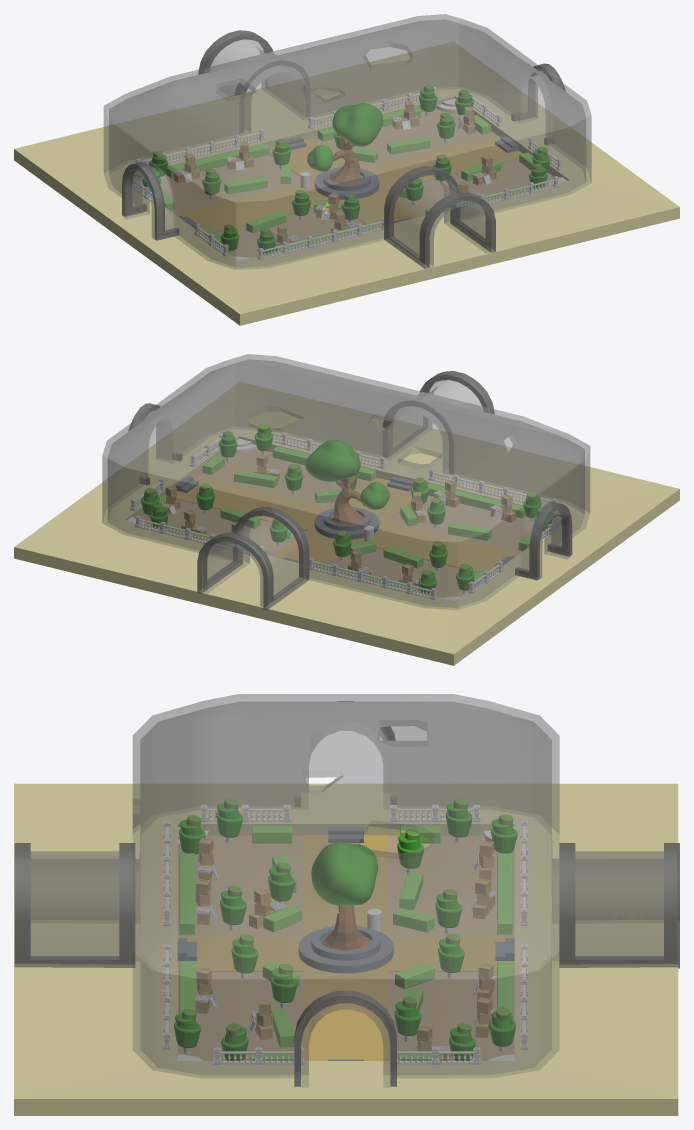
Rendered from map fiks.fbx.
The picture shows the model from 3 angles, top to bottom: view 1: azimuth 30°, elevation 25°; view 2: azimuth 150°, elevation 25°; view 3: azimuth 270°, elevation 25°; orthographic projection. The views are drawn at different scales.
Parts seen in each view (by area): view 1: Cube.052, Plane.012, Plane.110, Plane, Cube.055, Cube.054, Cube.056, Sphere.001, Cylinder, Plane.011, Cube.057, Cube.004 (+5 smaller); view 2: Cube.052, Plane.012, Plane.110, Plane, Cube.054, Cube.055, Sphere.001, Cube.056, Cylinder, Cube.004, Plane.023, Plane.025 (+5 smaller); view 3: Cube.052, Plane.012, Plane.110, Plane, Cube.055, Cube.054, Sphere.001, Cylinder, Cube.057, Plane.011, Plane.023, Cube.004 (+12 smaller).
Boxes of the visible parts, x1,y1,x2,y2 form: Cube.052: [103, 14, 591, 269]; Plane.012: [14, 42, 679, 325]; Plane.110: [144, 109, 552, 257]; Plane: [175, 135, 522, 233]; Cube.055: [384, 166, 495, 268]; Cube.054: [198, 30, 309, 133]; Cube.056: [122, 162, 179, 240]; Sphere.001: [332, 103, 383, 146]; Cylinder: [314, 167, 379, 199]; Plane.011: [166, 143, 269, 178]; Cube.057: [511, 63, 565, 145]; Cube.004: [330, 136, 362, 184]; Cube.052: [102, 354, 590, 609]; Plane.012: [14, 382, 679, 665]; Plane.110: [141, 449, 534, 597]; Plane: [176, 475, 518, 573]; Cube.054: [197, 506, 309, 610]; Cube.055: [382, 371, 494, 473]; Sphere.001: [305, 440, 360, 481]; Cube.056: [515, 502, 572, 580]; Cylinder: [314, 507, 379, 539]; Cube.004: [331, 472, 364, 524]; Plane.023: [427, 483, 525, 518]; Plane.025: [272, 446, 376, 481]; Cube.052: [30, 694, 663, 1087]; Plane.012: [14, 783, 678, 1115]; Plane.110: [177, 835, 514, 1060]; Plane: [177, 835, 514, 1060]; Cube.055: [14, 843, 135, 967]; Cube.054: [559, 843, 679, 968]; Sphere.001: [311, 841, 377, 905]; Cylinder: [298, 925, 393, 973]; Cube.057: [294, 990, 396, 1086]; Plane.011: [497, 853, 512, 934]; Plane.023: [179, 853, 194, 934]; Cube.004: [321, 905, 370, 950].
Bounding box in the file's own units: 9575 × 2291 × 8548.
